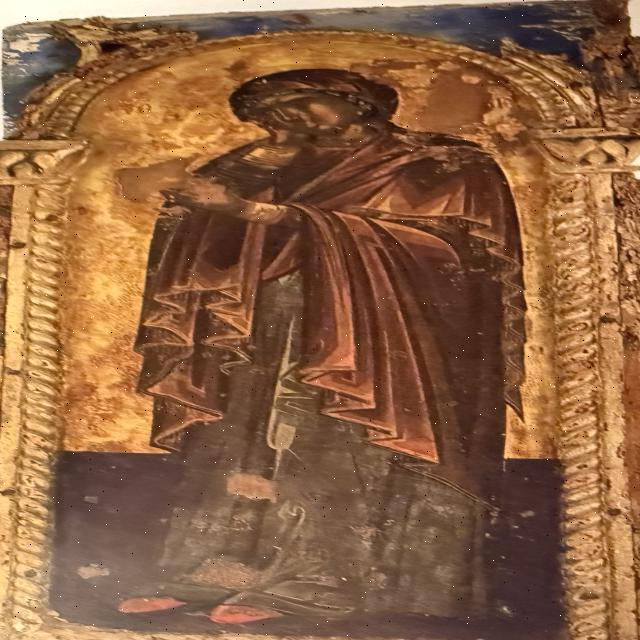saint: (97, 45, 489, 635)
